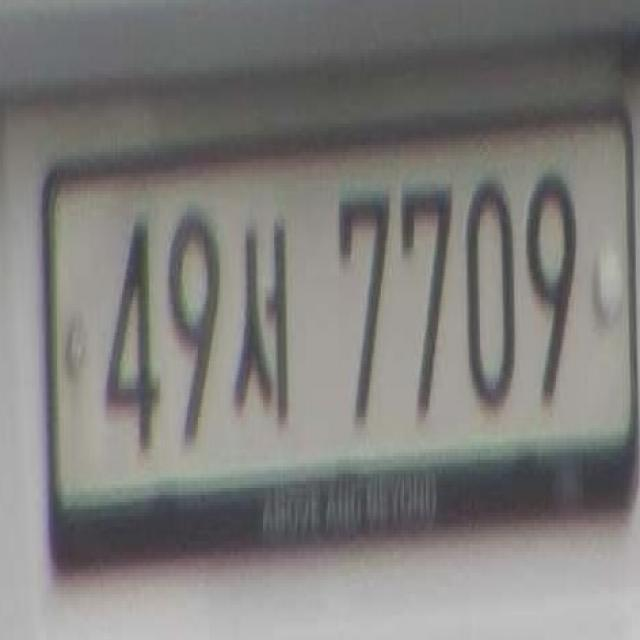0: (459, 174, 519, 422)
4: (102, 200, 162, 474)
7: (400, 152, 456, 432), (338, 171, 392, 445)
9: (166, 193, 226, 470), (527, 160, 583, 422)
license_plate: (36, 101, 636, 590)
seo: (228, 196, 312, 447)
